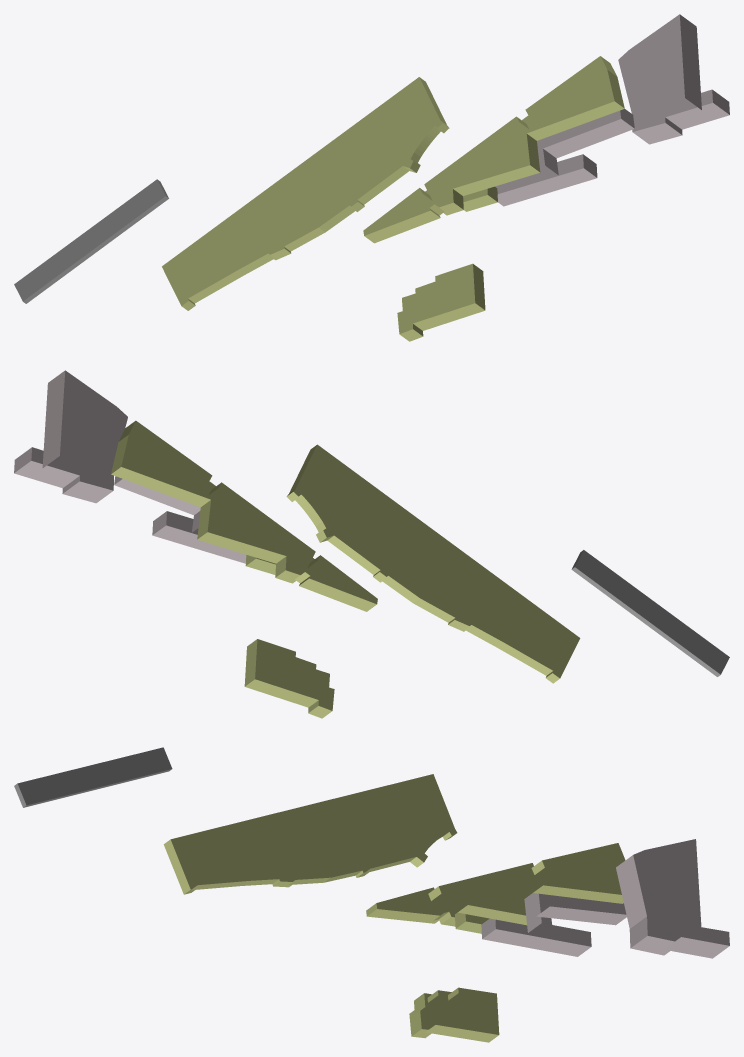
3 views of the same model, one above another, from view 1: azimuth 30°, elevation 25°; view 2: azimuth 150°, elevation 25°; view 3: azimuth 330°, elevation 25° (orthographic). The views are drawn at different scales.
Parts seen in each view (by area): view 1: 0_3_0_1_2_1; view 2: 0_3_0_1_2_1; view 3: 0_3_0_1_2_1.
Boxes of the visible parts, <box> form: 0_3_0_1_2_1: <box>14,14,729,341</box>; 0_3_0_1_2_1: <box>14,370,729,718</box>; 0_3_0_1_2_1: <box>14,747,729,1042</box>.
Size of the model in its own units: 356 by 125 by 20.2.
